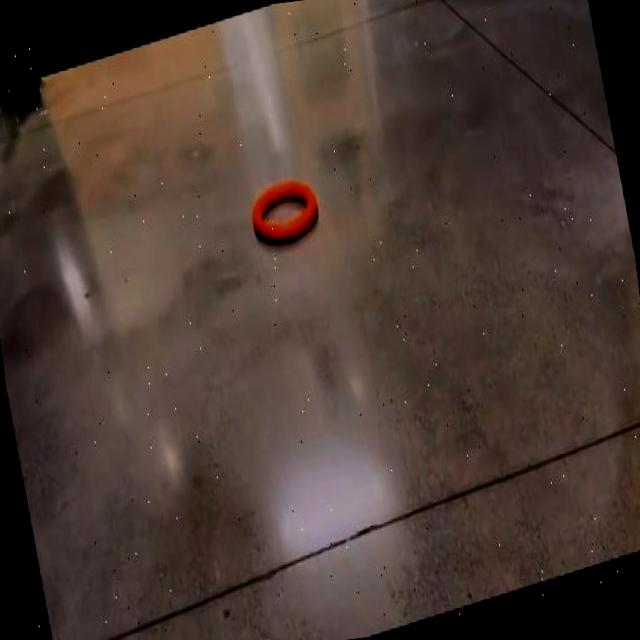note: (252, 179, 318, 242)
